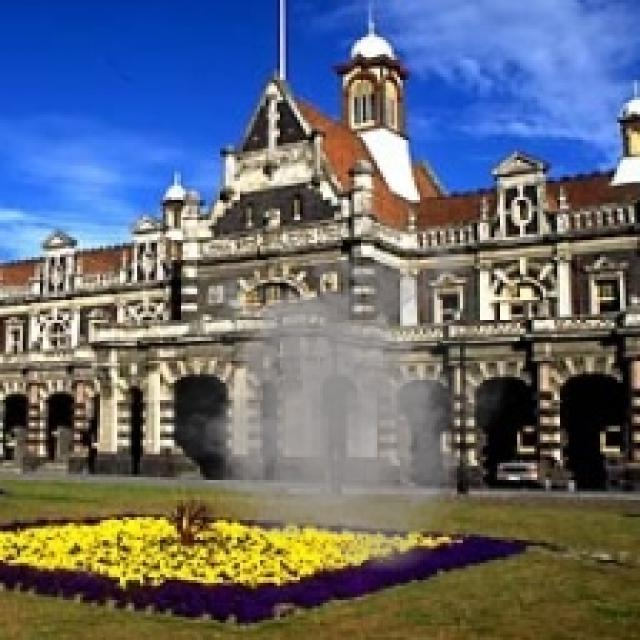smoke: (151, 234, 523, 577)
